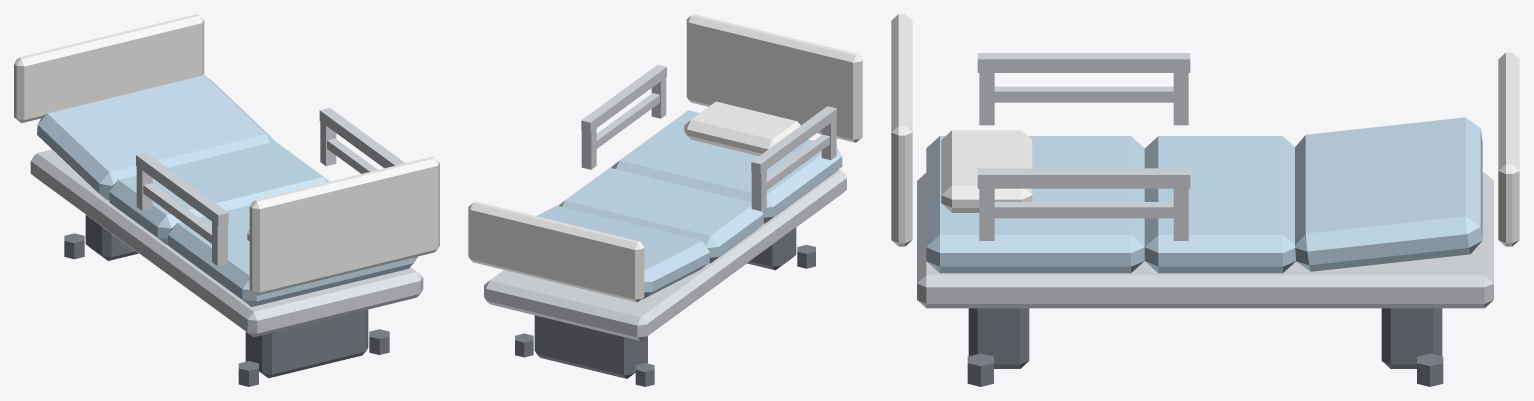
File: hospital_cama.glb
3 views of the same model, side by side, from view 1: azimuth 30°, elevation 25°; view 2: azimuth 150°, elevation 25°; view 3: azimuth 270°, elevation 25° (orthographic). The views are drawn at different scales.
Visible parts, largest first — view 1: adjustable-ward-bed, foot-section, head-section; view 2: adjustable-ward-bed, head-section, foot-section, head-section-shell; view 3: adjustable-ward-bed, foot-section, head-section, head-section-shell.
Part boxes in pixels (x1,y1,x2,y2): adjustable-ward-bed: [14, 14, 439, 386]; foot-section: [37, 75, 274, 200]; head-section: [168, 205, 417, 306]; adjustable-ward-bed: [468, 14, 862, 386]; head-section: [611, 110, 842, 223]; foot-section: [536, 205, 709, 299]; head-section-shell: [684, 101, 800, 155]; adjustable-ward-bed: [891, 14, 1519, 386]; foot-section: [1295, 117, 1482, 271]; head-section: [926, 136, 1144, 273]; head-section-shell: [941, 130, 1032, 212].
Bounding box in the file's own units: 0.9501 × 0.98 × 2.07.
